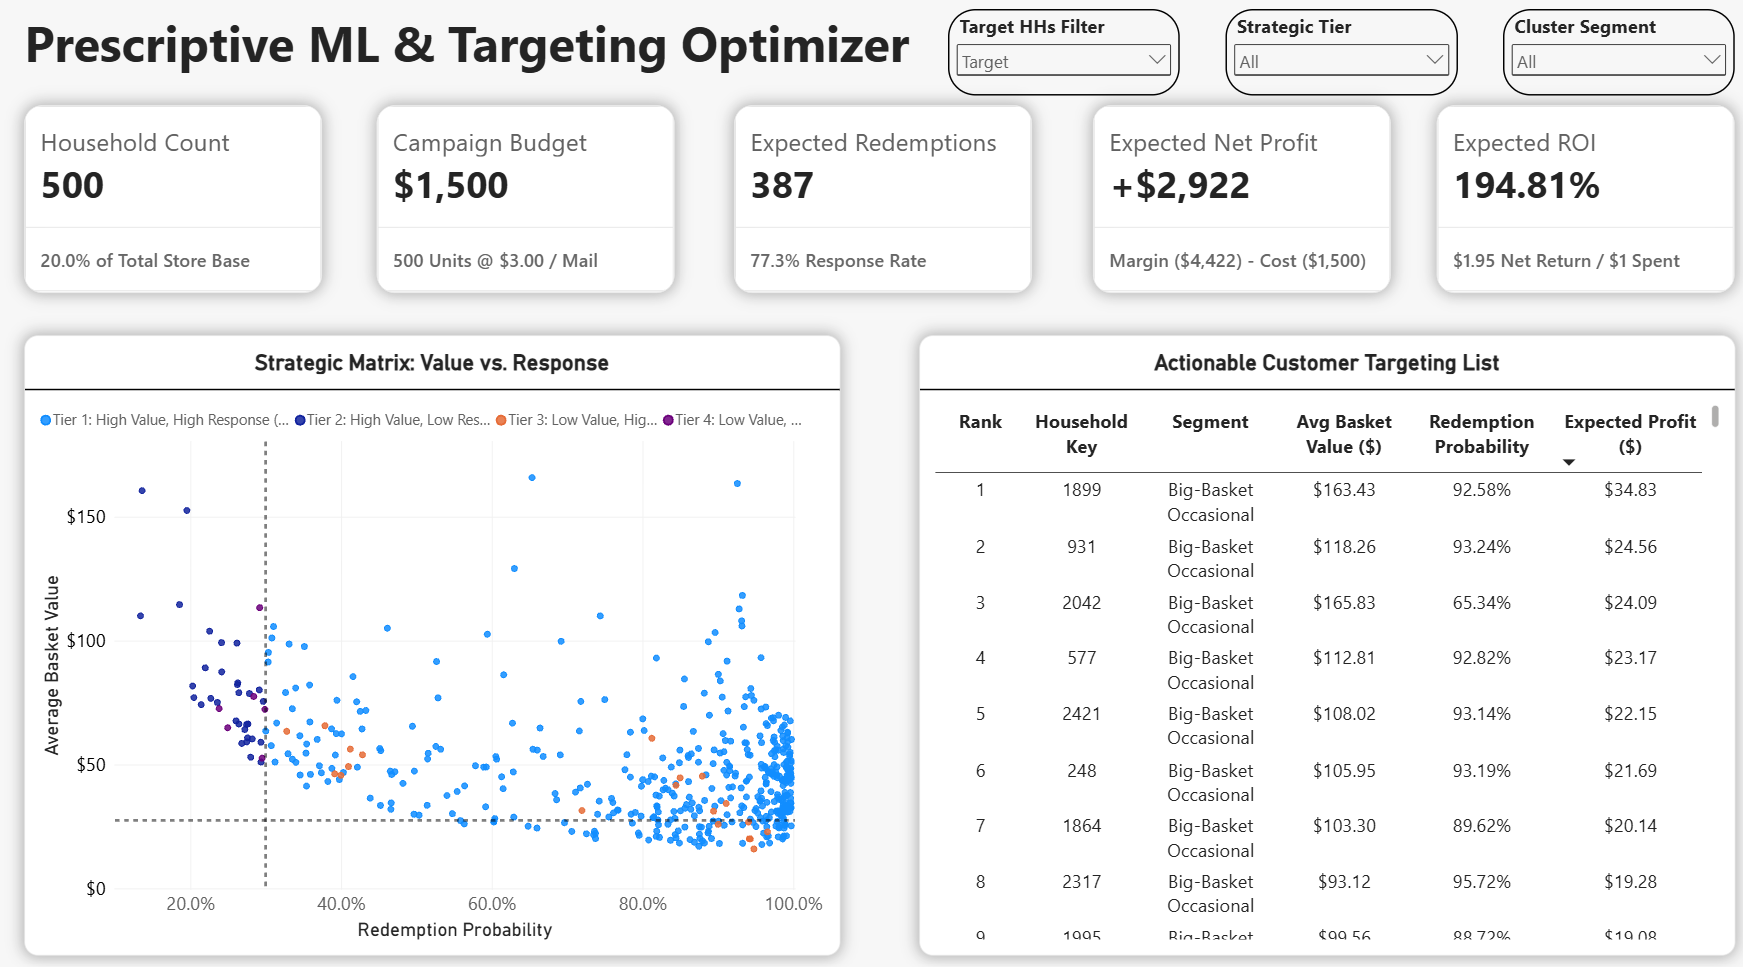

The dashboard page shown, as its layout file describes it:
{"tool":"powerbi","page":{"name":"Prescriptive ML & Targeting Optimizer","canvas":[1920,1080],"ordinal":3},"visuals":[{"type":"textbox","box":[34.4,16.3,1038.7,105],"z":0},{"type":"slicer","fields":{"Values":["pbi_household_master.target_recommendation_top500"]},"box":[1042.4,16.3,253,94.1],"z":1000},{"type":"slicer","fields":{"Values":["pbi_household_master.Cluster_Segment"]},"box":[1646.8,16.3,253,94.1],"z":2000},{"type":"slicer","fields":{"Values":["pbi_household_master.strategic_tier"]},"box":[1344.6,16.3,253.4,94.1],"z":3000},{"type":"cardVisual","fields":{"Data":["page4_measures.Household Count"]},"box":[34.4,121.2,325,204.5],"z":4000},{"type":"cardVisual","fields":{"Data":["page4_measures.Campaign Budget"]},"box":[418,121.2,325,204.5],"z":5000},{"type":"cardVisual","fields":{"Data":["page4_measures.Expected Redemptions"]},"box":[808.9,121.2,325,204.5],"z":6000},{"type":"cardVisual","fields":{"Data":["_Measures.Net Profit Display"]},"box":[1199.8,121.2,325,204.5],"z":7000},{"type":"cardVisual","fields":{"Data":["page4_measures.Expected ROI"]},"box":[1574.4,121.2,325,204.5],"z":8000},{"type":"scatterChart","title":"Strategic Matrix: Value vs. Response","fields":{"Category":["pbi_household_master.Household_key"],"Series":["pbi_household_master.strategic_tier"],"X":["Sum(pbi_household_master.Predicted_Redemption_Probability)"],"Y":["Sum(pbi_household_master.Avg_Basket_Value)"]},"box":[34.4,372.8,890,676.8],"z":8001},{"type":"tableEx","title":"Actionable Customer Targeting List","fields":{"Values":["pbi_household_master.targeting_rank_ev","pbi_household_master.Household_key","pbi_household_master.Cluster_Segment","Sum(pbi_household_master.Avg_Basket_Value)","Sum(pbi_household_master.Predicted_Redemption_Probability)","Sum(pbi_household_master.Expected_Profit)"]},"box":[1009.8,372.8,890,676.8],"z":8002}]}

Visuals, with their boxes in screenshot pixels (x1, y1, x2, y2), scaled from the page's 1920x1080 canvas onto the 1743x967 screenshot:
textbox: (31,15,974,109)
slicer - pbi_household_master.target_recommendation_top500: (946,15,1176,99)
slicer - pbi_household_master.Cluster_Segment: (1495,15,1725,99)
slicer - pbi_household_master.strategic_tier: (1221,15,1451,99)
cardVisual - page4_measures.Household Count: (31,109,326,292)
cardVisual - page4_measures.Campaign Budget: (379,109,675,292)
cardVisual - page4_measures.Expected Redemptions: (734,109,1029,292)
cardVisual - _Measures.Net Profit Display: (1089,109,1384,292)
cardVisual - page4_measures.Expected ROI: (1429,109,1724,292)
"Strategic Matrix: Value vs. Response" scatterChart: (31,334,839,940)
"Actionable Customer Targeting List" tableEx: (917,334,1725,940)
